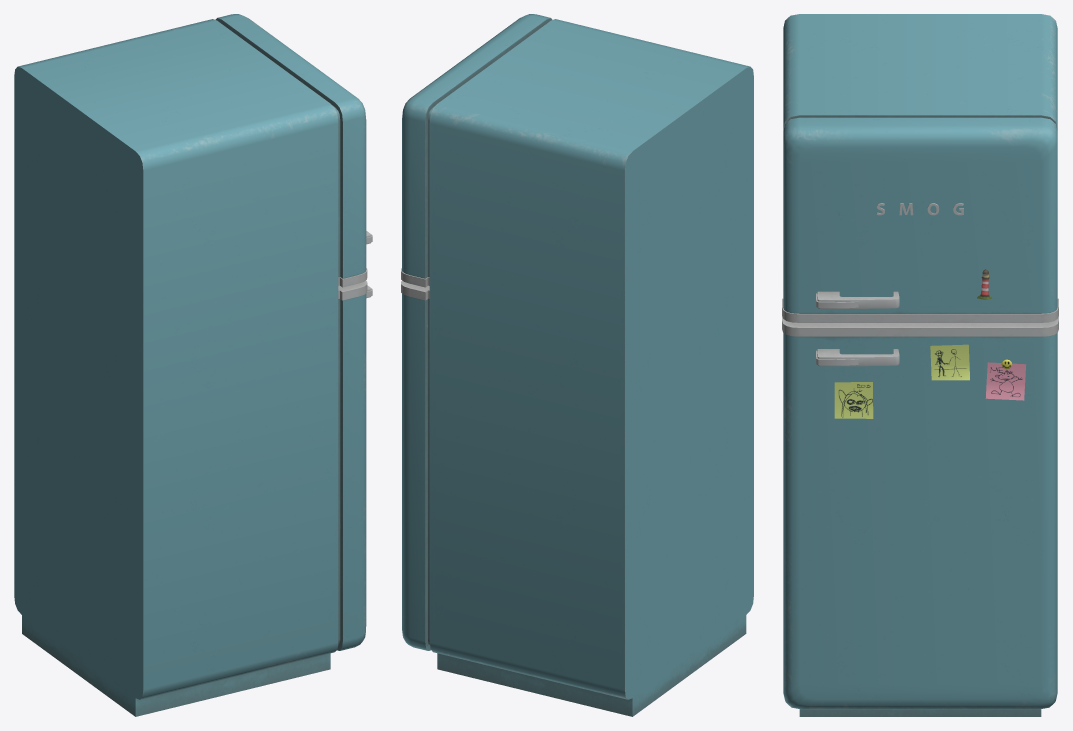
Rendered from Fridge.fbx.
The picture shows the model from 3 angles, left to right: view 1: azimuth 30°, elevation 25°; view 2: azimuth 150°, elevation 25°; view 3: azimuth 270°, elevation 25°; orthographic projection. The views are drawn at different scales.
Visible parts, largest first — view 1: body_low; view 2: body_low; view 3: body_low.
Part boxes in pixels (x1,y1,x2,y2): body_low: [14, 14, 372, 716]; body_low: [401, 14, 753, 716]; body_low: [782, 14, 1058, 716].
Bounding box in the file's own units: 91.26 × 200 × 83.4.
1 material, 1 textured.
